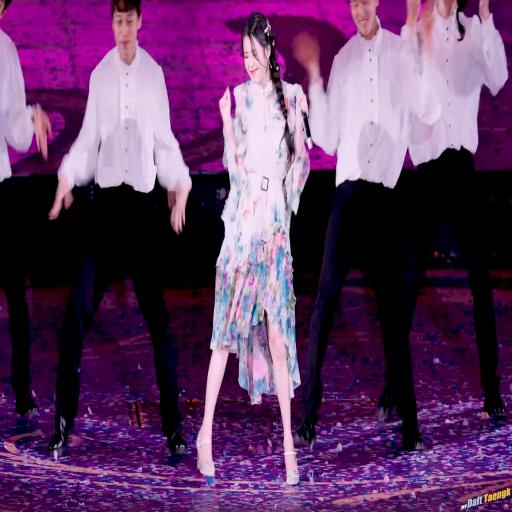IU: (242, 14, 275, 86)
